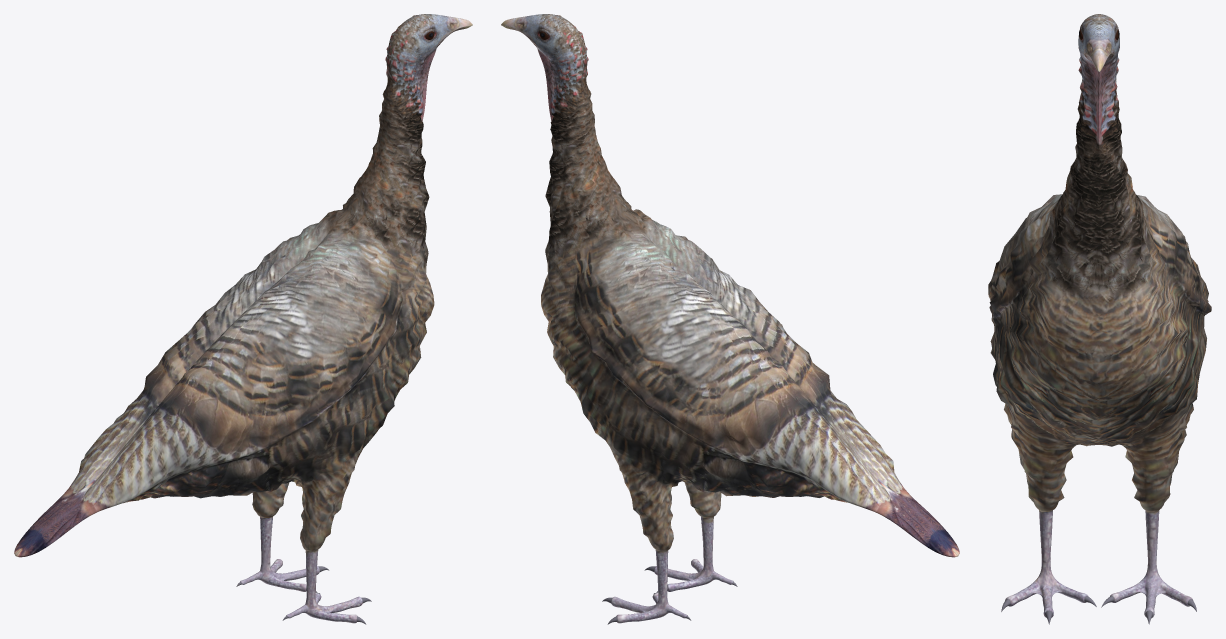
The model's file is Ona kurka.fbx.
3 renders of one model, left to right at view 1: azimuth 30°, elevation 25°; view 2: azimuth 150°, elevation 25°; view 3: azimuth 270°, elevation 25°, orthographic. The views are drawn at different scales.
Visible parts, largest first — view 1: 11561_Turkey - Wild_female_v4_l1; view 2: 11561_Turkey - Wild_female_v4_l1; view 3: 11561_Turkey - Wild_female_v4_l1.
Part boxes in pixels (x1=…): 11561_Turkey - Wild_female_v4_l1: x1=14, y1=14, x2=472, y2=624; 11561_Turkey - Wild_female_v4_l1: x1=501, y1=14, x2=959, y2=624; 11561_Turkey - Wild_female_v4_l1: x1=988, y1=14, x2=1211, y2=624.
Bounding box in the file's own units: 7658 × 8874 × 2766.
1 material, 1 textured.
